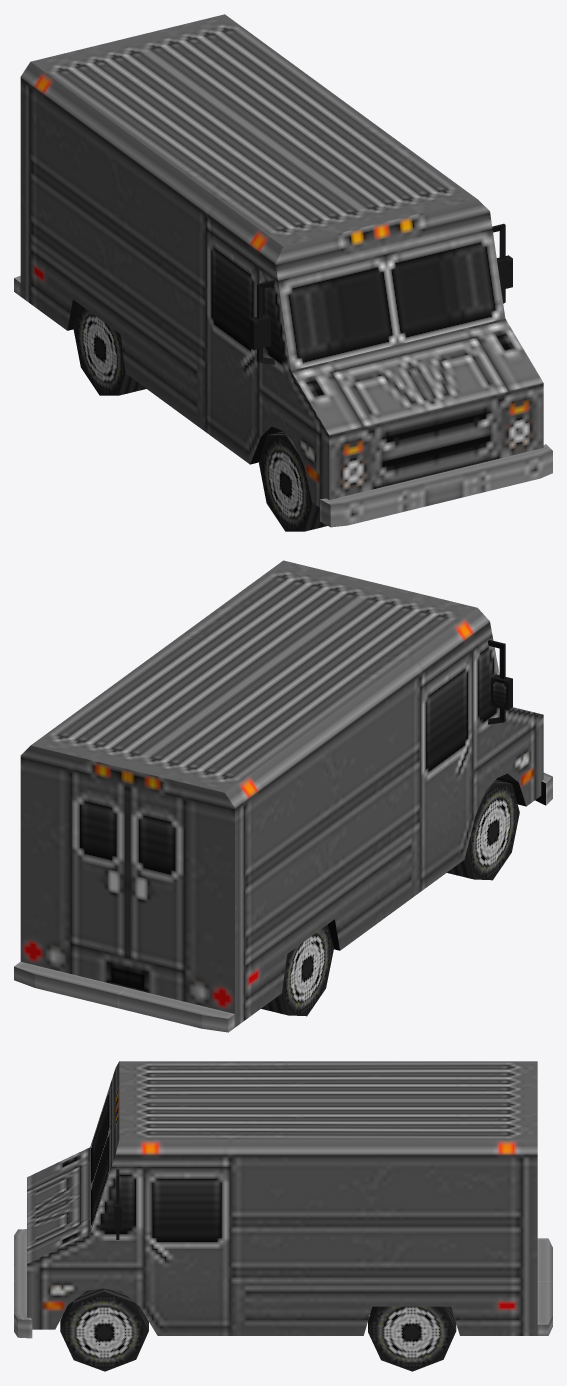
File: Auto7gris.fbx
The picture shows the model from 3 angles, top to bottom: view 1: azimuth 30°, elevation 25°; view 2: azimuth 150°, elevation 25°; view 3: azimuth 270°, elevation 25°; orthographic projection. The views are drawn at different scales.
Parts seen in each view (by area): view 1: Car8; view 2: Car8; view 3: Car8.
Part boxes in pixels (bbox=[...]): Car8: bbox=[14, 14, 552, 531]; Car8: bbox=[14, 560, 552, 1032]; Car8: bbox=[14, 1061, 552, 1371].
Size of the model in its own units: 317 by 323 by 689.
